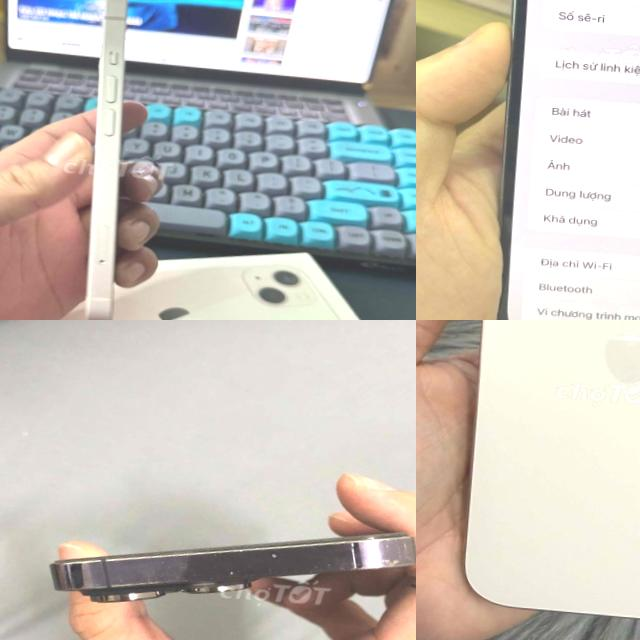gen_12_13: (60, 0, 179, 320)
gen_14: (481, 0, 640, 320)
gen_16: (465, 320, 640, 618)
